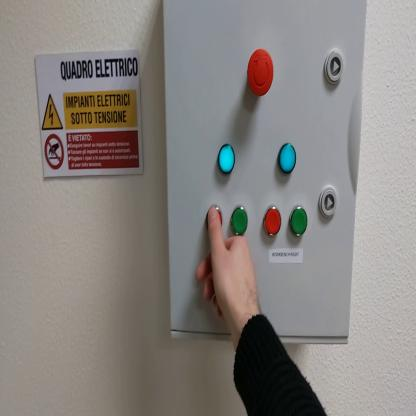hand: (199, 207, 261, 328)
left green button: (231, 206, 249, 237)
left red button: (207, 204, 225, 231)
right green button: (291, 206, 309, 237)
right red button: (266, 206, 282, 237)
